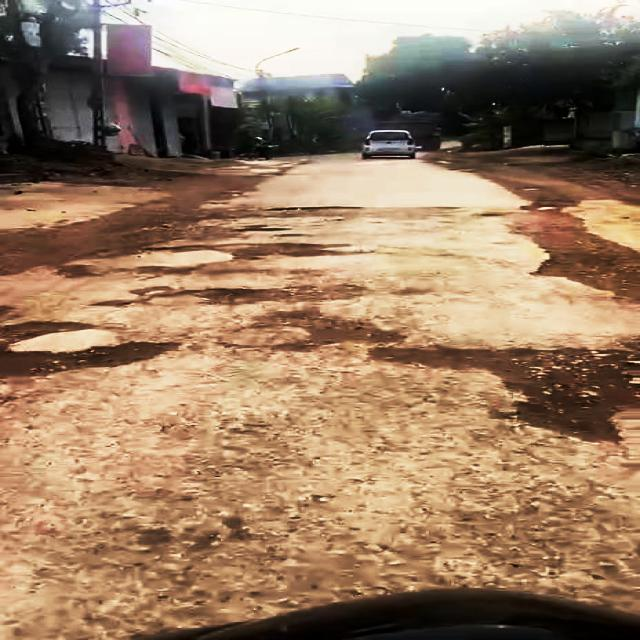pothole: (354, 341, 640, 443), (0, 333, 163, 383), (252, 311, 412, 343), (165, 285, 358, 306), (186, 240, 349, 260)
